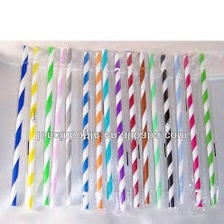drinking_straw: (6, 41, 33, 211), (194, 48, 221, 210), (38, 43, 60, 210), (146, 50, 166, 211), (113, 49, 132, 213), (78, 49, 94, 213)
